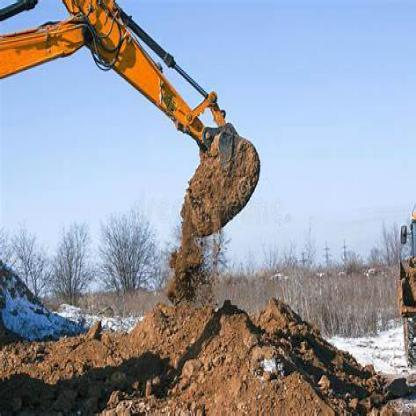excavator: (2, 0, 276, 252)
